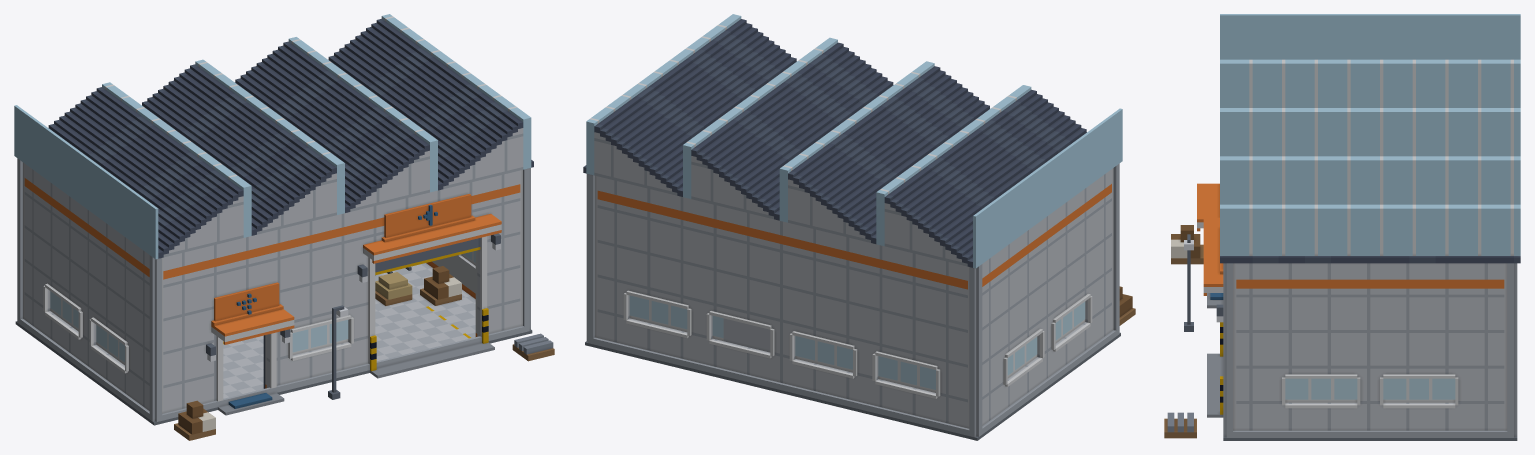
The model's file is factory_e3_l1.glb.
3 views of the same model, side by side, from view 1: azimuth 30°, elevation 25°; view 2: azimuth 150°, elevation 25°; view 3: azimuth 270°, elevation 25° (orthographic). The views are drawn at different scales.
Parts seen in each view (by area): view 1: CutRoof, CutPZ, Base, CutNX, CutNZ; view 2: CutRoof, CutNZ, CutNX, Base, CutPZ; view 3: CutRoof, CutPX, Base, CutPZ, CutNZ.
Part boxes in pixels (x1,y1,x2,y2): CutRoof: [14, 14, 533, 259]; CutPZ: [149, 168, 530, 396]; Base: [15, 256, 554, 440]; CutNX: [24, 164, 149, 391]; CutNZ: [17, 158, 24, 299]; CutRoof: [583, 14, 1122, 268]; CutNZ: [586, 174, 982, 411]; CutNX: [982, 169, 1111, 405]; Base: [585, 286, 1135, 440]; CutPZ: [1112, 163, 1119, 310]; CutRoof: [1220, 14, 1520, 263]; CutPX: [1236, 263, 1504, 409]; Base: [1164, 225, 1517, 440]; CutPZ: [1197, 183, 1236, 411]; CutNZ: [1504, 263, 1517, 411].
Size of the model in its own units: 14.2 by 7.8 by 10.9.
